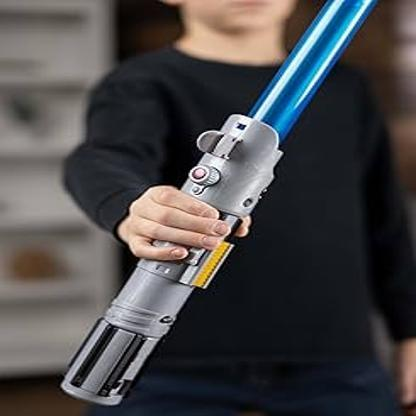lightsaber: (55, 0, 384, 414)
